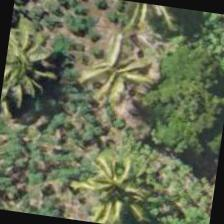Kelapa_Sawit: (63, 19, 165, 121), (59, 143, 160, 223), (0, 24, 61, 121)
